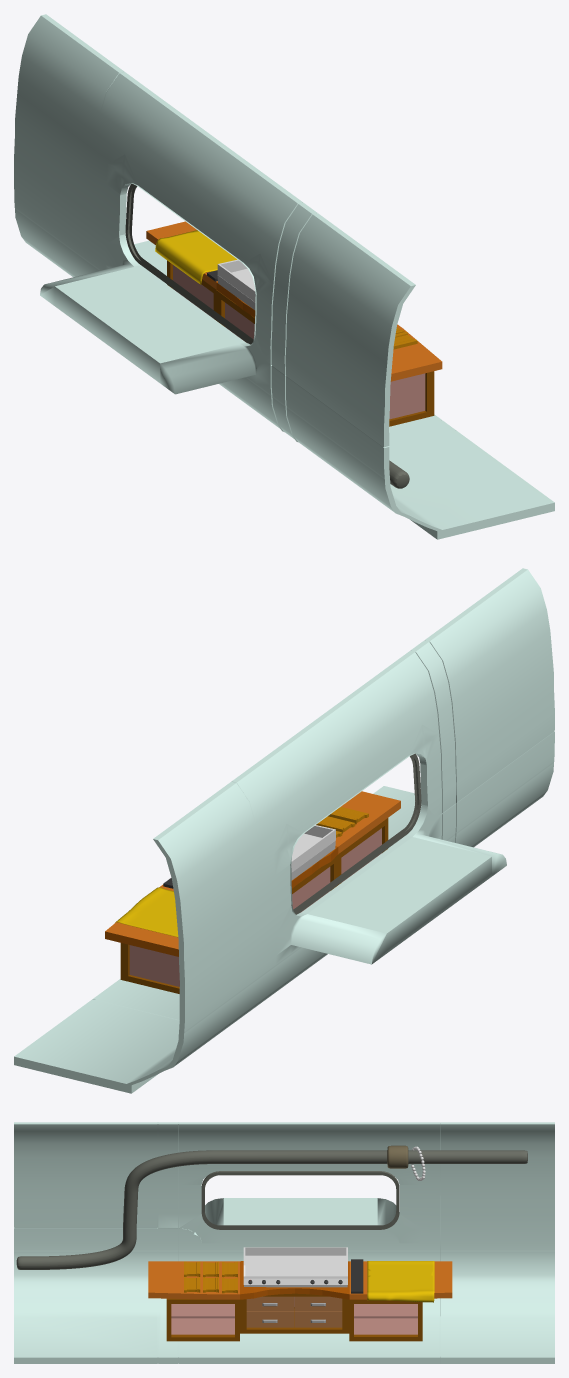
The model's file is SUBMARINO2.fbx.
3 views of the same model, one above another, from view 1: azimuth 30°, elevation 25°; view 2: azimuth 150°, elevation 25°; view 3: azimuth 270°, elevation 25° (orthographic). The views are drawn at different scales.
Visible parts, largest first — view 1: Submarino.001, Mesa de cocina, Mantel, Plane.001, Parilla; view 2: Submarino.001, Mesa de cocina, Mantel, Plane.001, Parilla, Tablas de la cocina; view 3: Submarino.001, Mesa de cocina, Parilla, Mantel, Plane.001, Tablas de la cocina.
Part boxes in pixels (bbox=[...]): Submarino.001: bbox=[14, 14, 554, 539]; Mesa de cocina: bbox=[146, 221, 442, 426]; Mantel: bbox=[155, 230, 236, 284]; Plane.001: bbox=[125, 183, 253, 344]; Parilla: bbox=[217, 259, 255, 310]; Submarino.001: bbox=[14, 568, 554, 1093]; Mesa de cocina: bbox=[105, 791, 400, 993]; Mantel: bbox=[115, 887, 178, 937]; Plane.001: bbox=[293, 753, 421, 914]; Parilla: bbox=[291, 825, 335, 880]; Tablas de la cocina: bbox=[316, 807, 368, 837]; Submarino.001: bbox=[14, 1122, 554, 1363]; Mesa de cocina: bbox=[148, 1259, 452, 1341]; Parilla: bbox=[243, 1247, 347, 1287]; Mantel: bbox=[367, 1261, 434, 1302]; Plane.001: bbox=[201, 1171, 399, 1229]; Tablas de la cocina: bbox=[184, 1261, 237, 1293].
Bounding box in the file's own units: 2636 × 2604 × 6714.
